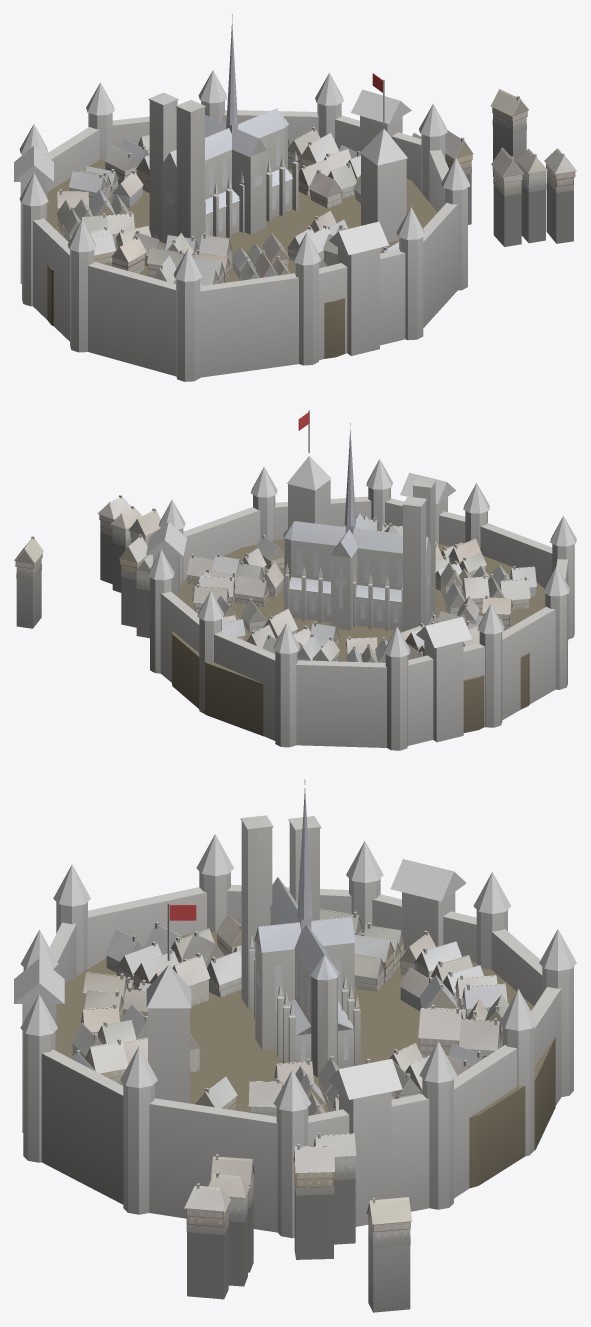
Rendered from city_a.glb.
3 renders of one model, top to bottom at view 1: azimuth 30°, elevation 25°; view 2: azimuth 150°, elevation 25°; view 3: azimuth 270°, elevation 25°, orthographic. The views are drawn at different scales.
Visible parts, largest first — view 1: city_a; view 2: city_a; view 3: city_a.
Part boxes in pixels (bbox=[...]): city_a: bbox=[14, 14, 576, 381]; city_a: bbox=[14, 410, 576, 750]; city_a: bbox=[14, 779, 576, 1312].
Size of the model in its own units: 3.61 by 1.75 by 2.67.
